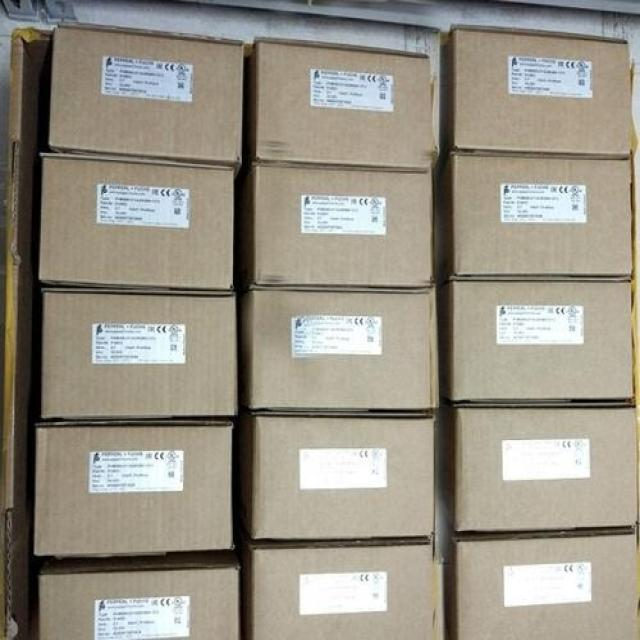box: (36, 26, 243, 168), (436, 495, 638, 638), (30, 420, 236, 556), (434, 397, 638, 533), (431, 150, 636, 282), (236, 412, 438, 543), (38, 155, 234, 290), (44, 283, 238, 419), (238, 286, 439, 417), (236, 37, 436, 168), (433, 277, 635, 406), (234, 517, 445, 639), (232, 162, 432, 290), (440, 28, 634, 155), (38, 555, 238, 638)
